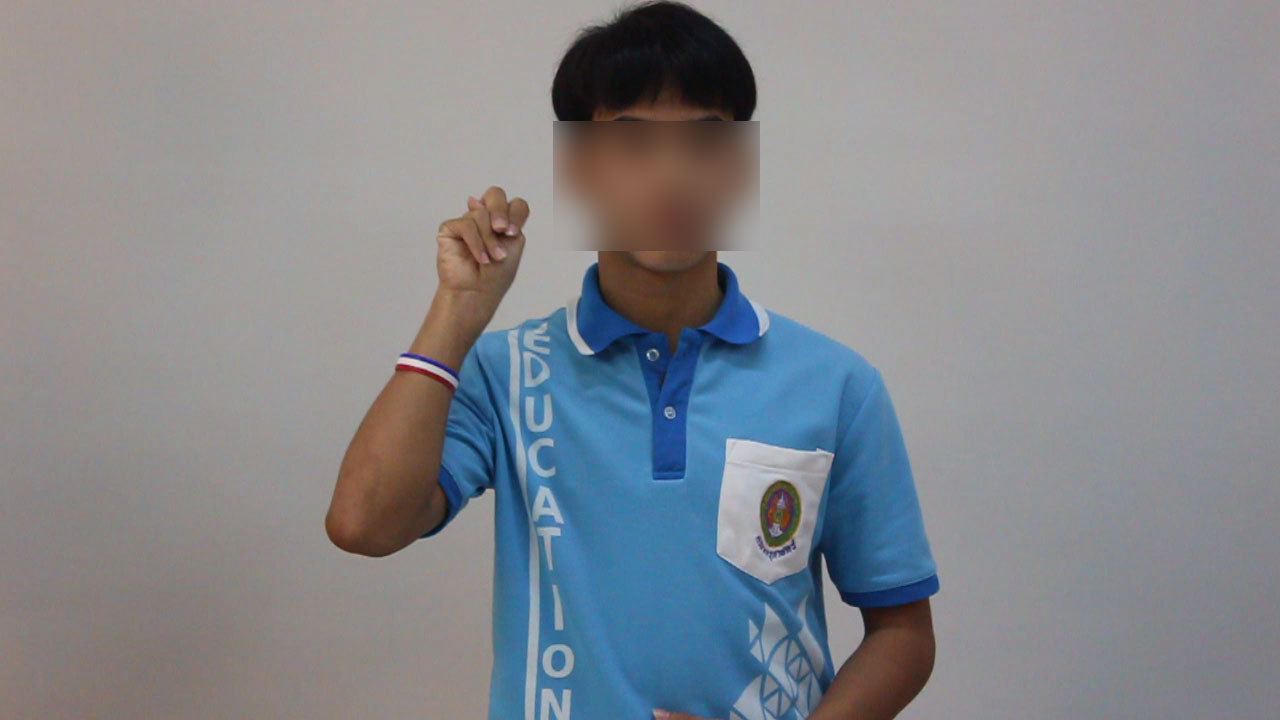nor: (415, 173, 553, 307)
